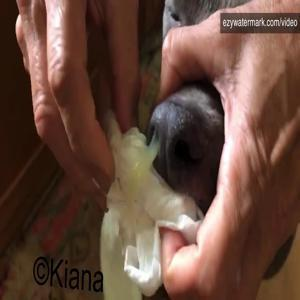nasal_discharge: (122, 100, 164, 191)
